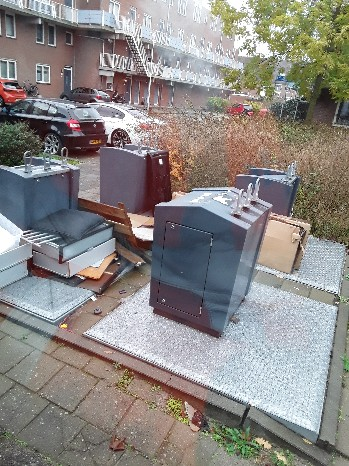Container: (154, 193, 253, 322), (0, 161, 79, 219), (105, 139, 171, 208), (240, 166, 293, 208)
Rest: (34, 220, 122, 278), (0, 209, 56, 283), (263, 218, 304, 272), (120, 207, 147, 249)
